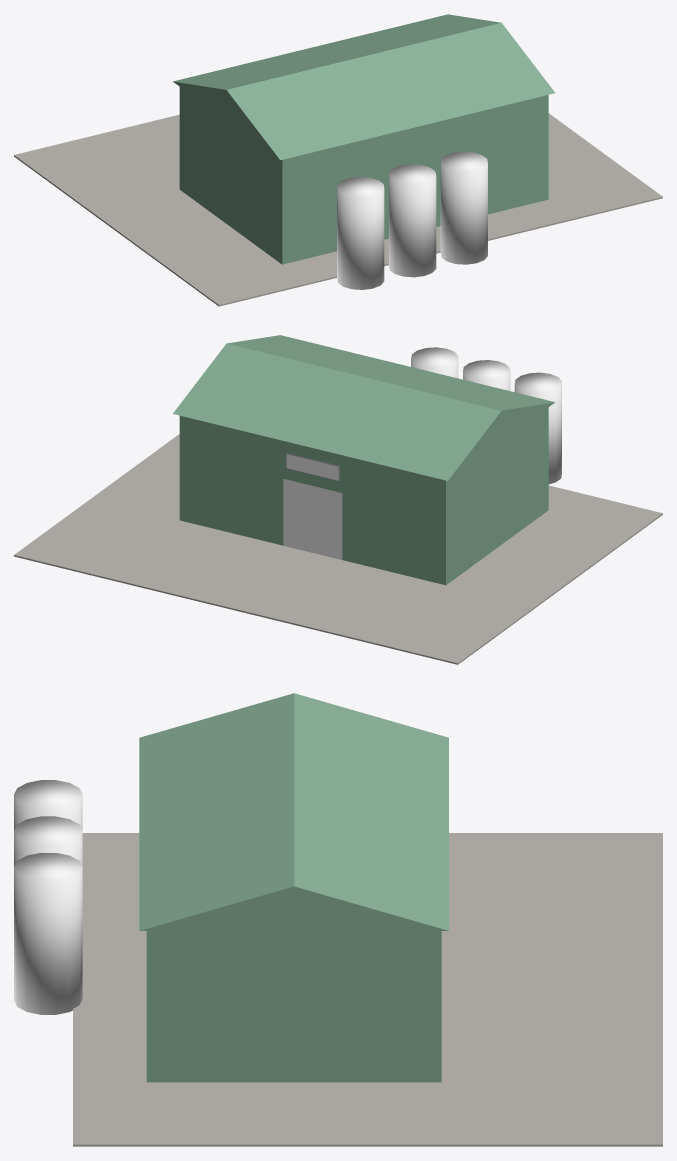
Rendered from oil_press.glb.
3 views of the same model, one above another, from view 1: azimuth 30°, elevation 25°; view 2: azimuth 150°, elevation 25°; view 3: azimuth 270°, elevation 25° (orthographic). The views are drawn at different scales.
Parts seen in each view (by area): view 1: oil_press; view 2: oil_press; view 3: oil_press.
Boxes of the visible parts, x1,y1,x2,y2 form: oil_press: (14,14,662,306); oil_press: (14,335,662,664); oil_press: (14,693,662,1146).
Size of what is drawn, in the model's own units: 30 by 9.03 by 26.4.
